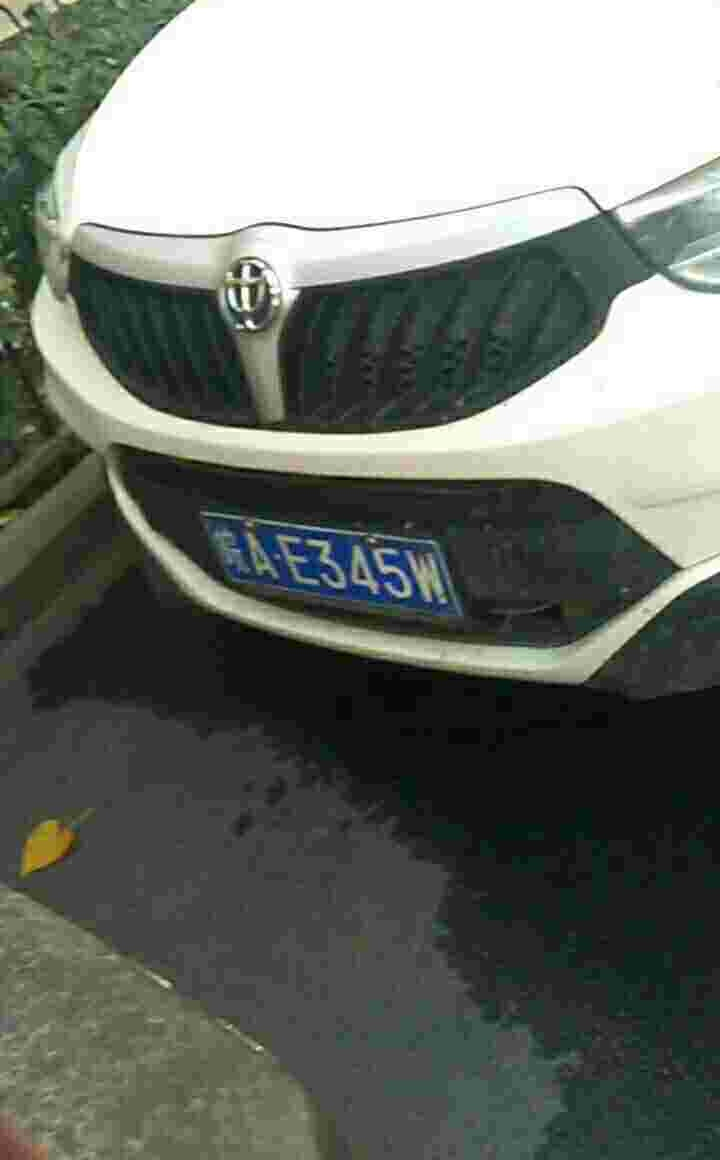license_plate: (204, 506, 454, 622)
